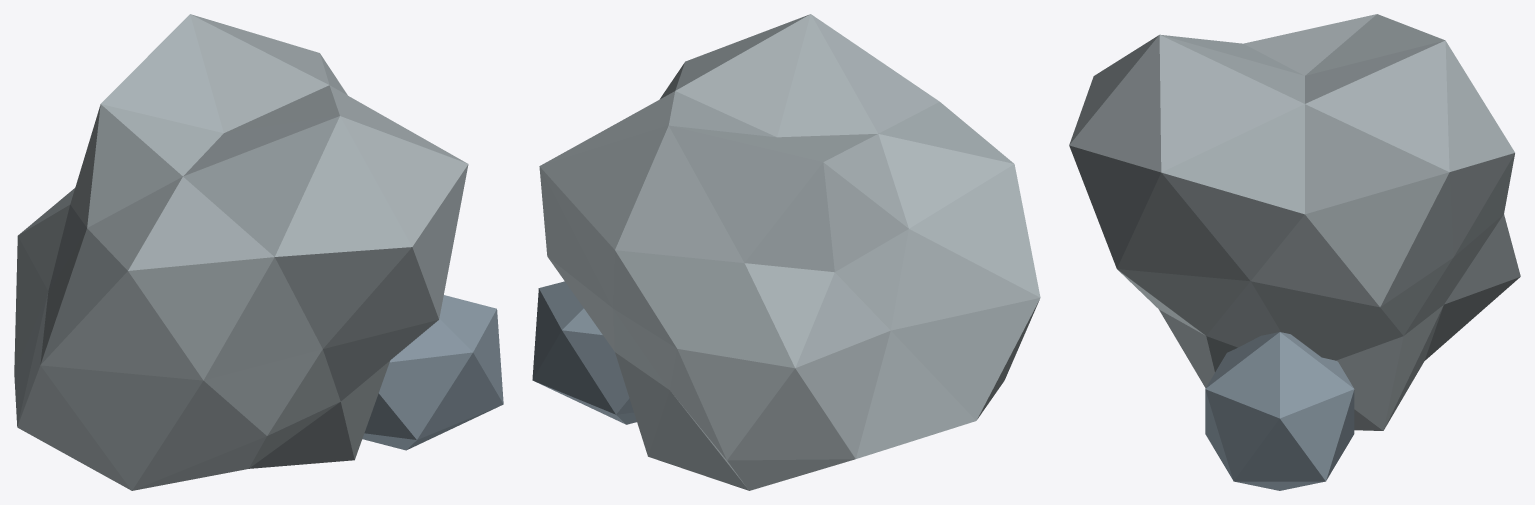
The model's file is Rock_02_LOD0.fbx.
3 renders of one model, left to right at view 1: azimuth 30°, elevation 25°; view 2: azimuth 150°, elevation 25°; view 3: azimuth 270°, elevation 25°, orthographic. The views are drawn at different scales.
Visible parts, largest first — view 1: Rock_02_LOD0; view 2: Rock_02_LOD0; view 3: Rock_02_LOD0.
Boxes of the visible parts, box(x1,y1,x2,y2) form: Rock_02_LOD0: box(14, 14, 503, 490); Rock_02_LOD0: box(532, 14, 1040, 490); Rock_02_LOD0: box(1069, 14, 1520, 490).
Size of the model in its own units: 216 by 174 by 180.
